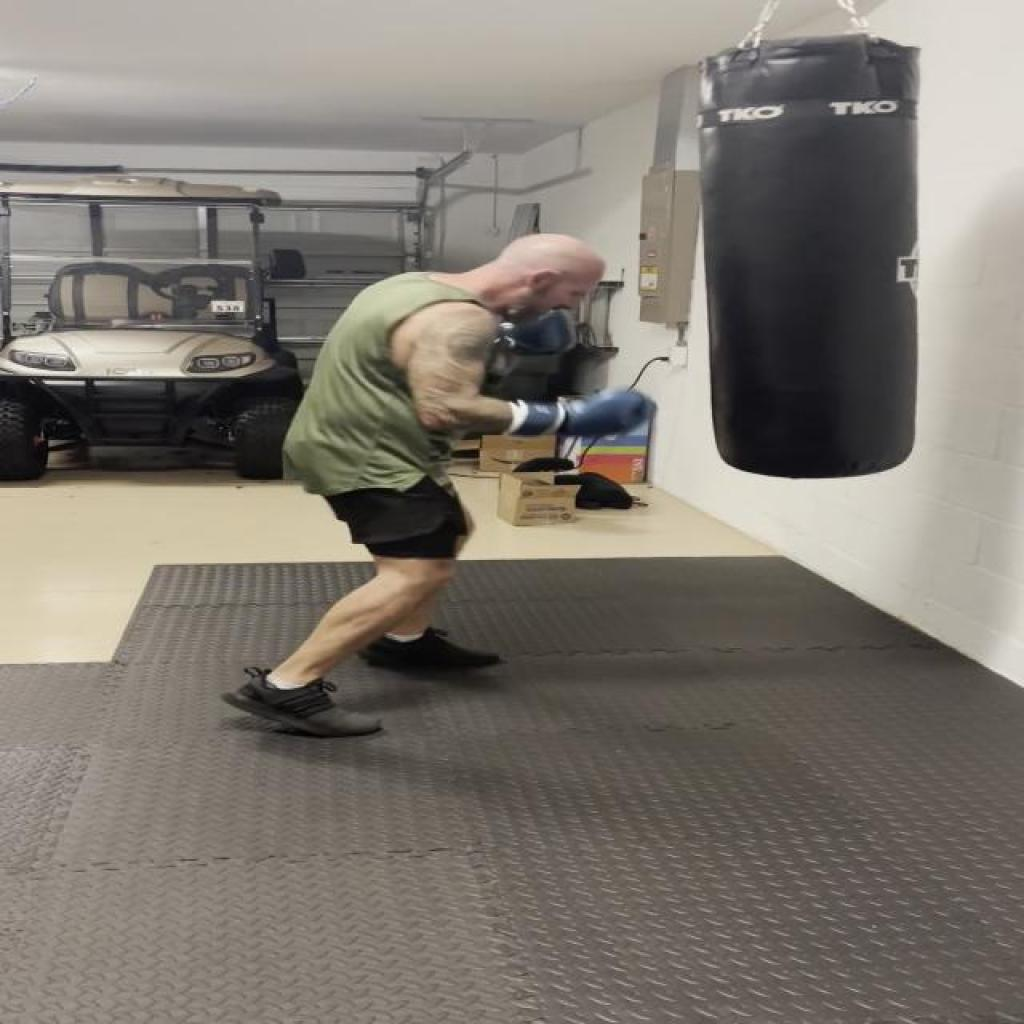bag: (678, 32, 934, 480)
uppercut: (338, 236, 694, 462)
